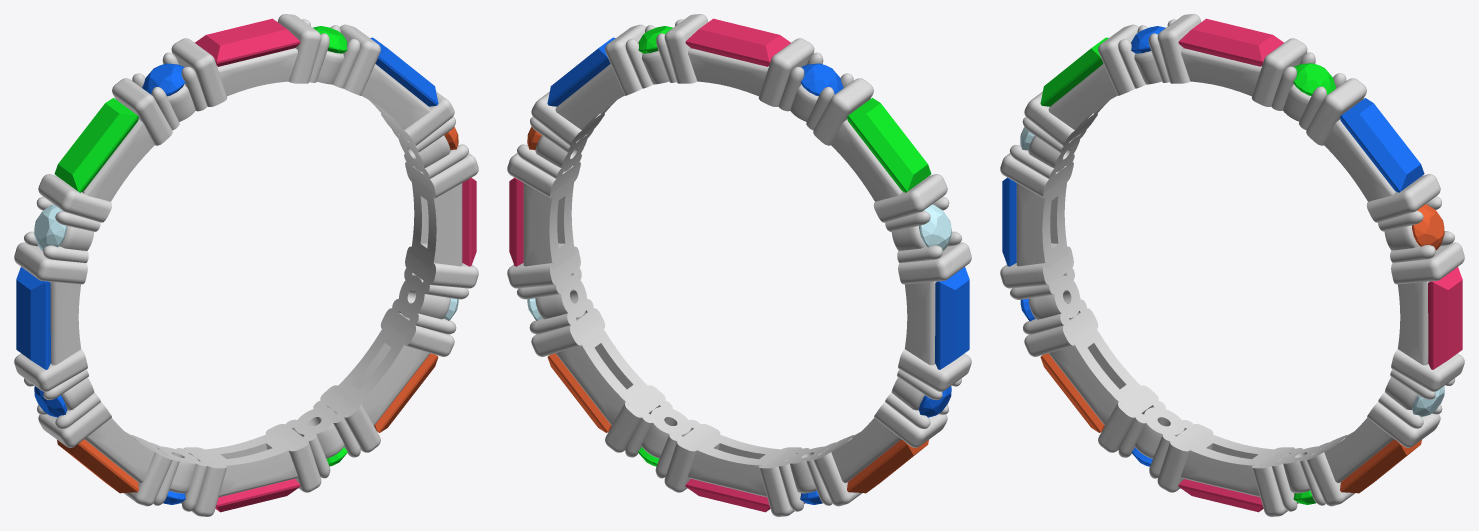
File: AdamSPTnew_blender.glb
3 renders of one model, left to right at view 1: azimuth 30°, elevation 25°; view 2: azimuth 150°, elevation 25°; view 3: azimuth 330°, elevation 25°, orthographic.
Parts seen in each view (by area): view 1: Adam PT for 3d model, Adam ruby for 3d model, Adam emerald for 3d model.001, Adam sapphire for 3d model.001, Adam hessonite garnet for 3d model.002, Adam sapphire for 3d model, Adam hessonite garnet for 3d model.001, Adam aquamarine for 3d model.001, Adam green sapphire for 3d model.002, Adam green sapphire for 3d model.001; view 2: Adam PT for 3d model, Adam ruby for 3d model, Adam emerald for 3d model.001, Adam sapphire for 3d model.001, Adam hessonite garnet for 3d model.002, Adam sapphire for 3d model, Adam hessonite garnet for 3d model.001, Adam aquamarine for 3d model.001, Adam green sapphire for 3d model.002, Adam green sapphire for 3d model.001; view 3: Adam PT for 3d model, Adam ruby for 3d model, Adam sapphire for 3d model, Adam hessonite garnet for 3d model.001, Adam emerald for 3d model.001, Adam sapphire for 3d model.001, Adam hessonite garnet for 3d model.002, Adam hessonite garnet for 3d model, Adam emerald for 3d model.002, Adam aquamarine for 3d model.
Boxes of the visible parts, x1=… form: Adam PT for 3d model: x1=14, y1=14, x2=478, y2=516; Adam ruby for 3d model: x1=195, y1=18, x2=476, y2=512; Adam emerald for 3d model.001: x1=54, y1=98, x2=138, y2=192; Adam sapphire for 3d model.001: x1=16, y1=267, x2=50, y2=369; Adam hessonite garnet for 3d model.002: x1=57, y1=439, x2=138, y2=493; Adam sapphire for 3d model: x1=370, y1=37, x2=438, y2=106; Adam hessonite garnet for 3d model.001: x1=374, y1=353, x2=438, y2=432; Adam aquamarine for 3d model.001: x1=34, y1=204, x2=66, y2=250; Adam green sapphire for 3d model.002: x1=142, y1=63, x2=185, y2=96; Adam green sapphire for 3d model.001: x1=34, y1=386, x2=66, y2=417; Adam PT for 3d model: x1=507, y1=14, x2=971, y2=516; Adam ruby for 3d model: x1=509, y1=18, x2=790, y2=512; Adam emerald for 3d model.001: x1=847, y1=98, x2=931, y2=192; Adam sapphire for 3d model.001: x1=935, y1=267, x2=969, y2=369; Adam hessonite garnet for 3d model.002: x1=847, y1=439, x2=928, y2=493; Adam sapphire for 3d model: x1=547, y1=37, x2=615, y2=106; Adam hessonite garnet for 3d model.001: x1=547, y1=353, x2=611, y2=432; Adam aquamarine for 3d model.001: x1=919, y1=204, x2=951, y2=250; Adam green sapphire for 3d model.002: x1=800, y1=63, x2=843, y2=96; Adam green sapphire for 3d model.001: x1=919, y1=386, x2=951, y2=417; Adam PT for 3d model: x1=1000, y1=14, x2=1464, y2=516; Adam ruby for 3d model: x1=1178, y1=18, x2=1462, y2=512; Adam sapphire for 3d model: x1=1340, y1=98, x2=1424, y2=192; Adam hessonite garnet for 3d model.001: x1=1340, y1=439, x2=1421, y2=493; Adam emerald for 3d model.001: x1=1040, y1=37, x2=1108, y2=106; Adam sapphire for 3d model.001: x1=1002, y1=177, x2=1016, y2=266; Adam hessonite garnet for 3d model.002: x1=1040, y1=353, x2=1104, y2=432; Adam hessonite garnet for 3d model: x1=1412, y1=204, x2=1444, y2=250; Adam emerald for 3d model.002: x1=1293, y1=63, x2=1336, y2=95; Adam aquamarine for 3d model: x1=1412, y1=386, x2=1444, y2=417.
Bounding box in the file's own units: 21.34 × 21.34 × 2.39.
